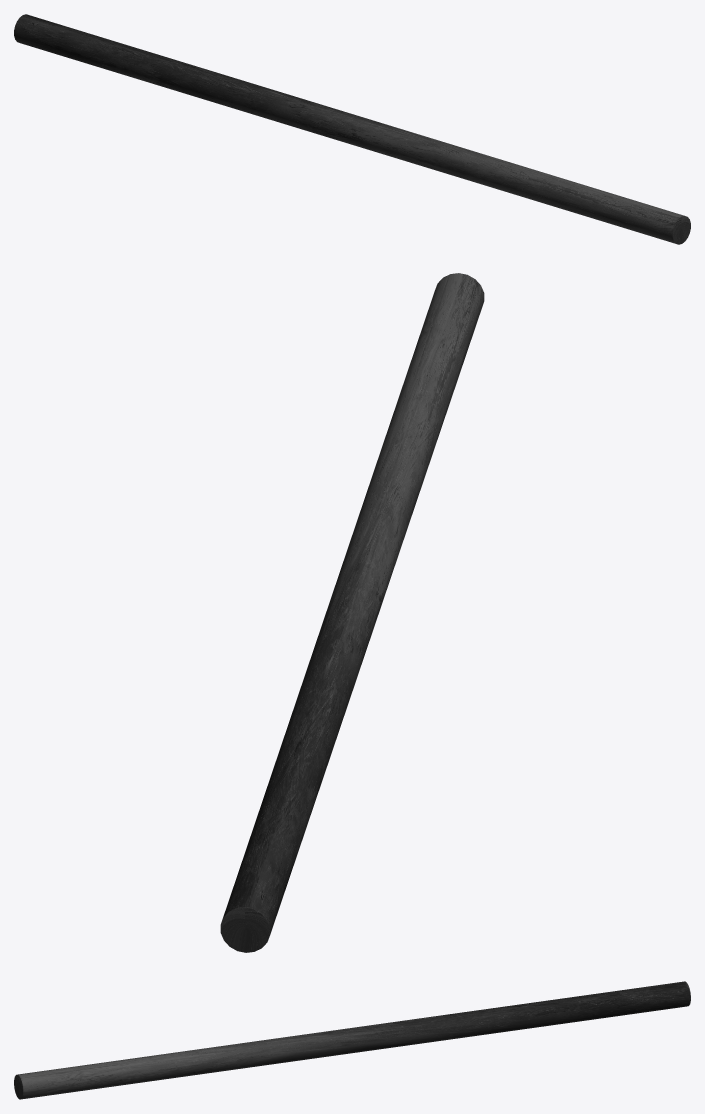
File: noir12.FBX
3 renders of one model, top to bottom at view 1: azimuth 30°, elevation 25°; view 2: azimuth 150°, elevation 25°; view 3: azimuth 270°, elevation 25°, orthographic. The views are drawn at different scales.
Visible parts, largest first — view 1: Cylindre005; view 2: Cylindre005; view 3: Cylindre005.
Part boxes in pixels (x1,y1,x2,y2): Cylindre005: (14, 14, 690, 244); Cylindre005: (220, 273, 484, 952); Cylindre005: (14, 981, 690, 1099).
Size of the model in its own units: 4.88 by 0.7644 by 11.6.
1 material, 1 textured.
